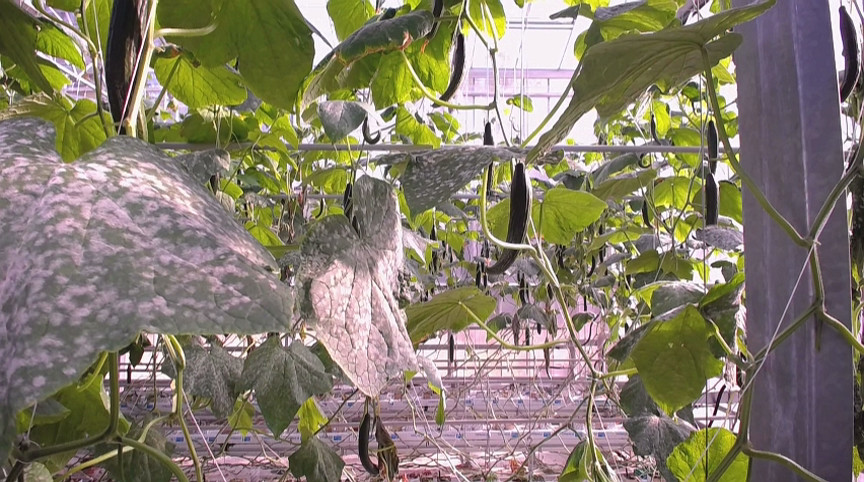cucumber: (107, 1, 149, 135), (485, 163, 531, 275), (434, 34, 469, 109), (838, 6, 861, 105), (359, 413, 379, 477), (705, 174, 722, 227)
